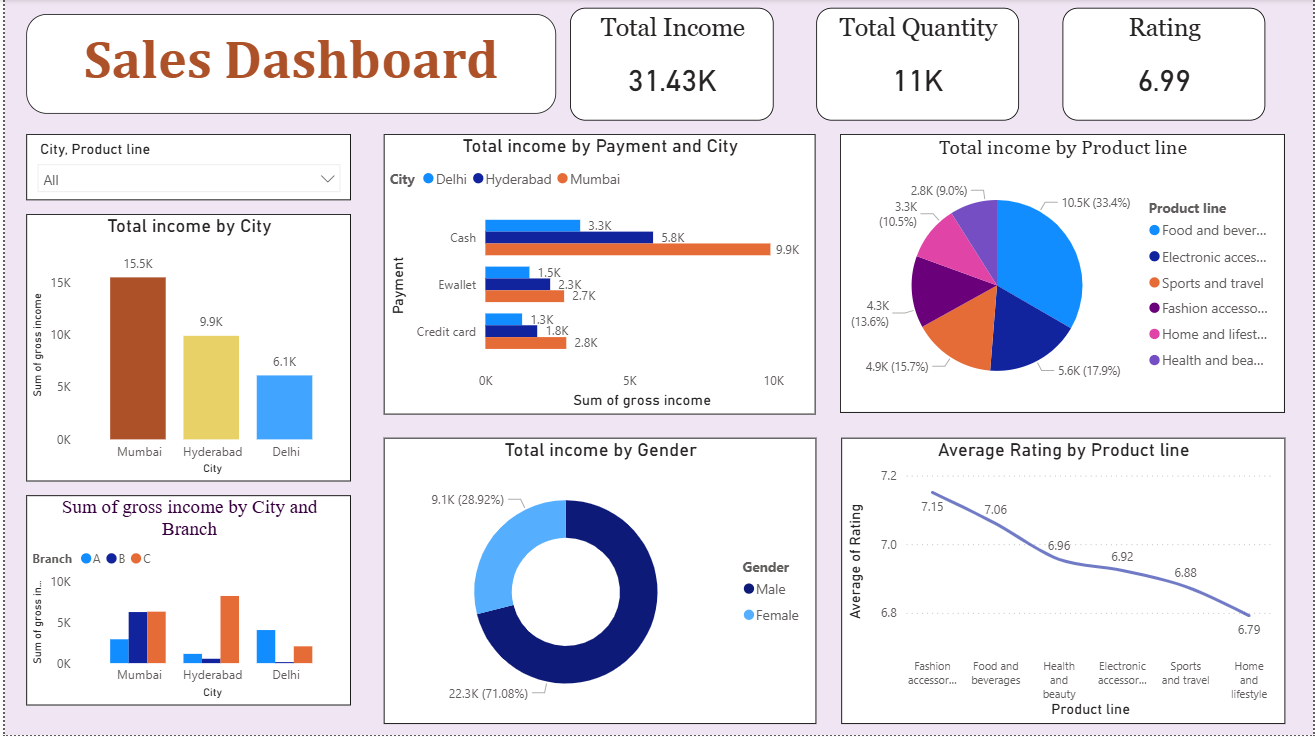

What the dashboard file says about the page in this screenshot:
{"tool":"powerbi","page":{"name":"Page 1","canvas":[1280,720],"ordinal":0},"visuals":[{"type":"textbox","box":[20.8,14.7,518.5,97.8],"z":0},{"type":"card","title":"Total Income","fields":{"Values":["Sum(Realmart Sales Dataset.gross income)"]},"box":[552.7,8.6,199.3,110.1],"z":1000},{"type":"card","title":"Total Quantity ","fields":{"Values":["Sum(Realmart Sales Dataset.Quantity)"]},"box":[793.6,8.6,198.1,110.1],"z":2000},{"type":"card","title":"Rating","fields":{"Values":["Avg(Realmart Sales Dataset.Rating)"]},"box":[1034.5,8.6,198.1,110.1],"z":3000},{"type":"columnChart","title":"Total  income by City","fields":{"Category":["Realmart Sales Dataset.City"],"Y":["Sum(Realmart Sales Dataset.gross income)"]},"box":[20.8,210.3,317.9,261.7],"z":4000},{"type":"clusteredBarChart","title":"Total income by Payment and City","fields":{"Y":["Sum(Realmart Sales Dataset.gross income)"],"Category":["Realmart Sales Dataset.Payment"],"Series":["Realmart Sales Dataset.City"]},"box":[370.5,131.7,422.6,274.4],"z":5000},{"type":"lineChart","title":"Average Rating by Product line","fields":{"Category":["Realmart Sales Dataset.Product line"],"Y":["Avg(Realmart Sales Dataset.Rating)"]},"box":[818.1,429.2,434.1,280],"z":6000},{"type":"pieChart","title":"Total income by Product line","fields":{"Category":["Realmart Sales Dataset.Product line"],"Y":["Sum(Realmart Sales Dataset.gross income)"]},"box":[816.5,131.7,435,273.1],"z":7000},{"type":"donutChart","title":"Total income by Gender","fields":{"Category":["Realmart Sales Dataset.Gender"],"Y":["Sum(Realmart Sales Dataset.gross income)"]},"box":[370.5,429.2,423.1,280],"z":8000},{"type":"slicer","fields":{"Values":["Realmart Sales Dataset.City","Realmart Sales Dataset.Product line"]},"box":[20.8,132.1,317.9,64.8],"z":9000},{"type":"clusteredColumnChart","fields":{"Category":["Realmart Sales Dataset.City"],"Y":["Sum(Realmart Sales Dataset.gross income)"],"Series":["Realmart Sales Dataset.Branch"]},"box":[20.8,485.5,317.9,205.4],"z":10000}]}

Visuals, with their boxes in screenshot pixels (x1, y1, x2, y2), scaled from the page's 1280x720 canvas onto the 1315x737 screenshot:
textbox: x1=21, y1=15, x2=554, y2=115
"Total Income" card: x1=568, y1=9, x2=773, y2=122
"Total Quantity " card: x1=815, y1=9, x2=1019, y2=122
"Rating" card: x1=1063, y1=9, x2=1266, y2=122
"Total  income by City" columnChart: x1=21, y1=215, x2=348, y2=483
"Total income by Payment and City" clusteredBarChart: x1=381, y1=135, x2=815, y2=416
"Average Rating by Product line" lineChart: x1=840, y1=439, x2=1286, y2=726
"Total income by Product line" pieChart: x1=839, y1=135, x2=1286, y2=414
"Total income by Gender" donutChart: x1=381, y1=439, x2=815, y2=726
slicer - Realmart Sales Dataset.City x Realmart Sales Dataset.Product line: x1=21, y1=135, x2=348, y2=202
clusteredColumnChart - Realmart Sales Dataset.City x Sum(Realmart Sales Dataset.gross income): x1=21, y1=497, x2=348, y2=707
